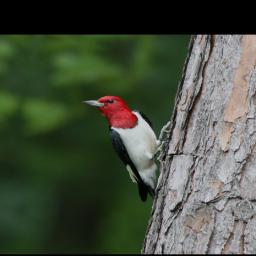Woodpecker: (58, 89, 183, 205)
